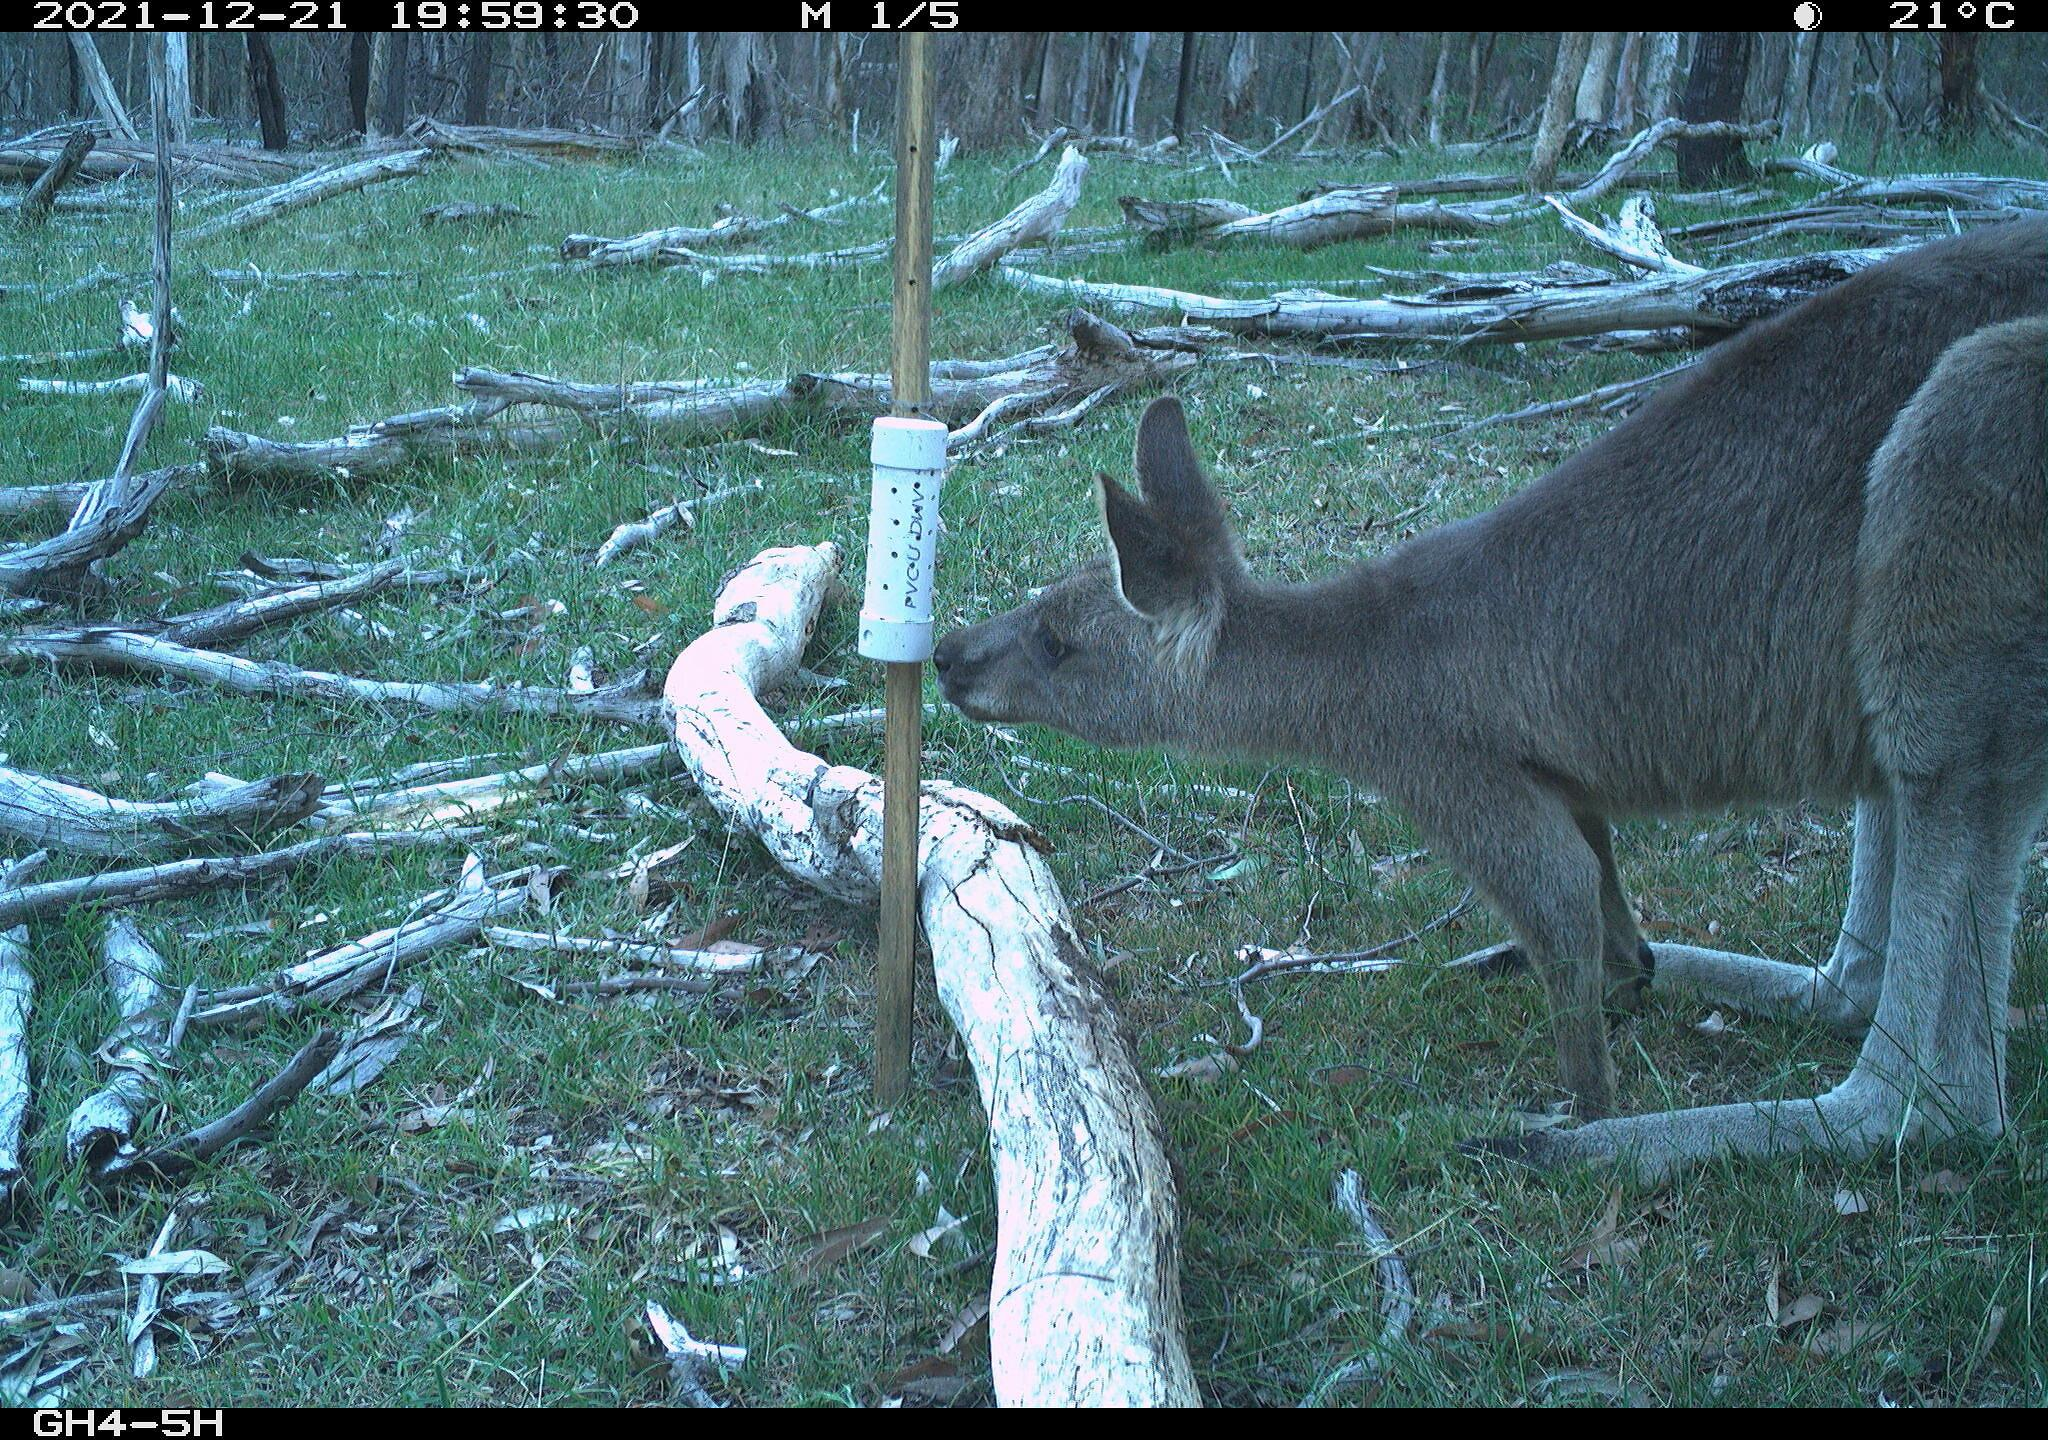Eastern grey kangaroo: (940, 215, 2048, 1208)
